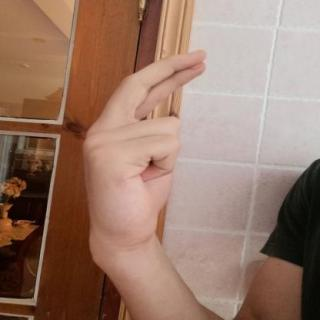ZAY: (68, 41, 222, 266)
